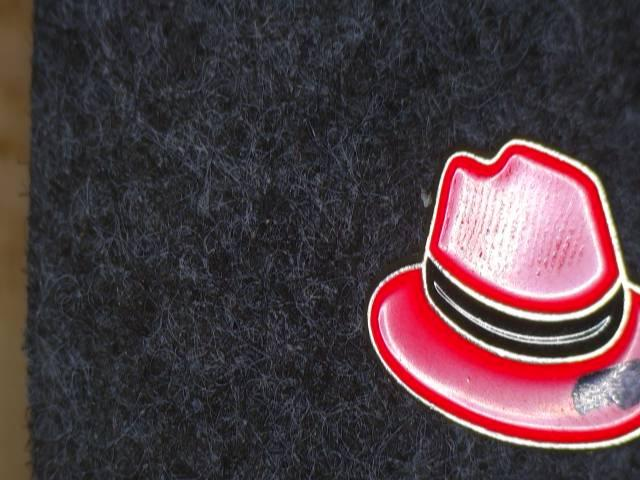Red-Hat: (334, 103, 640, 459)
Scratch: (553, 353, 640, 420)
